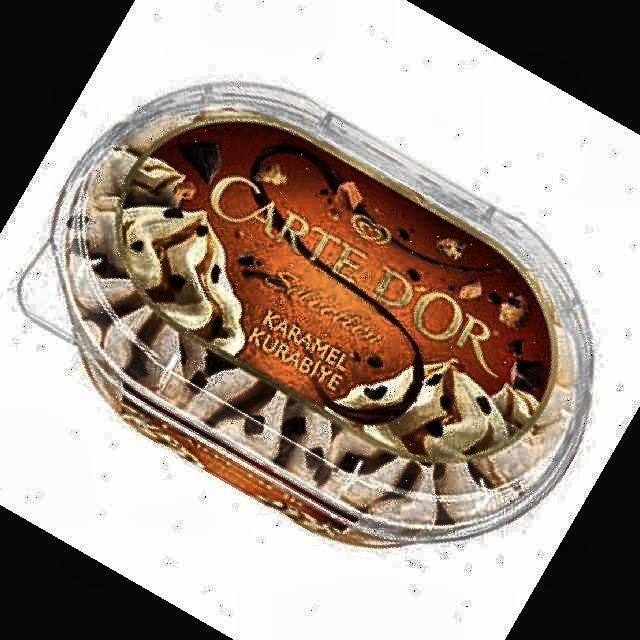plastic: (19, 84, 592, 546)
